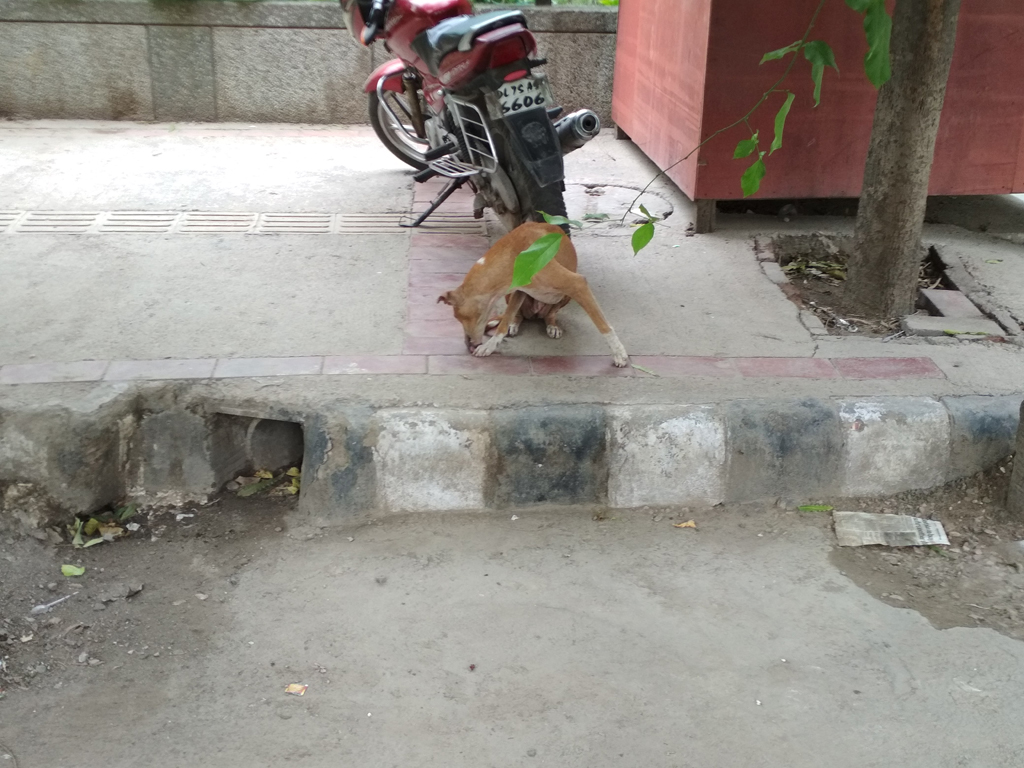dog: (436, 221, 631, 369)
